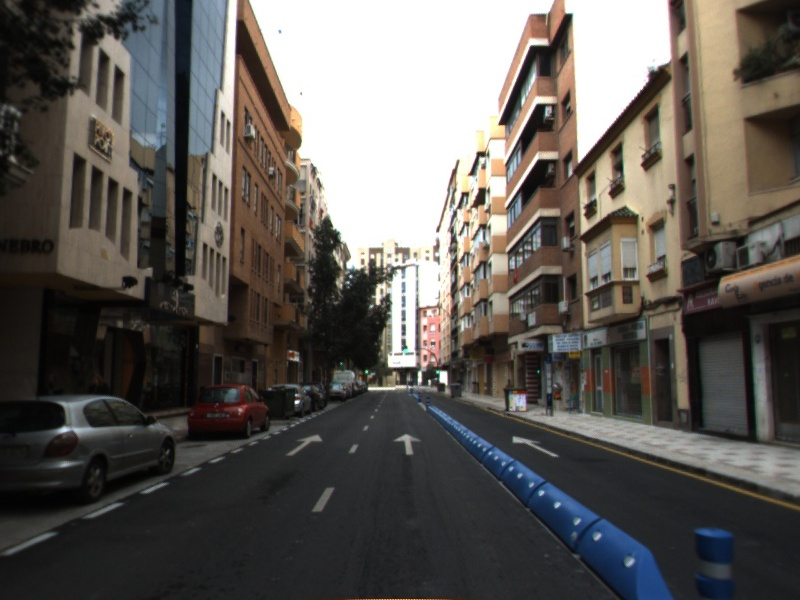STRAIGHT: (511, 434, 561, 459), (284, 433, 324, 457), (392, 432, 423, 457)
